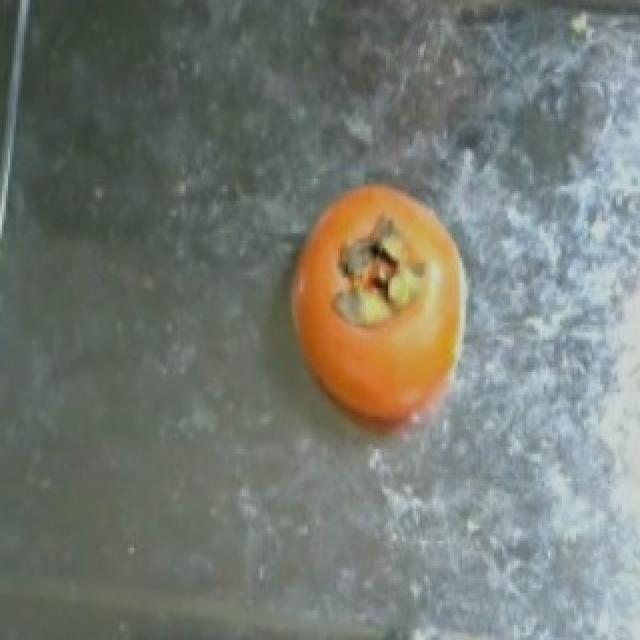Fruit: (268, 159, 494, 469)
